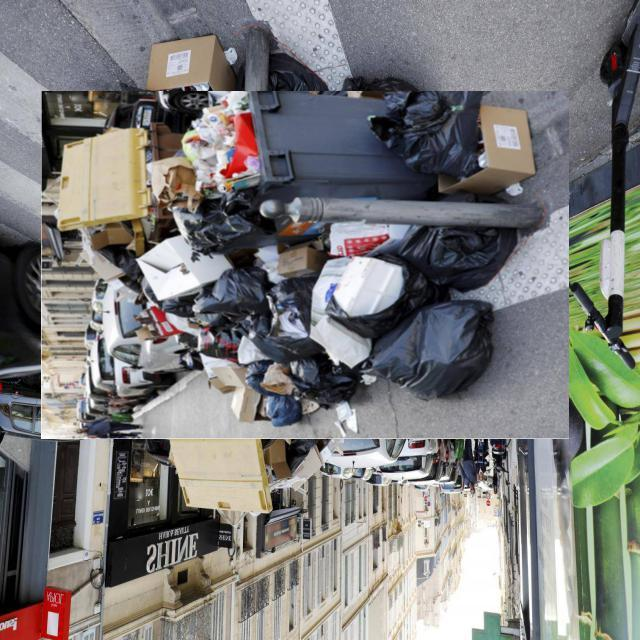Trashbag: (369, 292, 504, 409), (373, 89, 504, 189), (362, 222, 526, 296), (184, 191, 292, 264), (183, 265, 273, 328), (284, 341, 362, 410), (238, 355, 275, 404)
